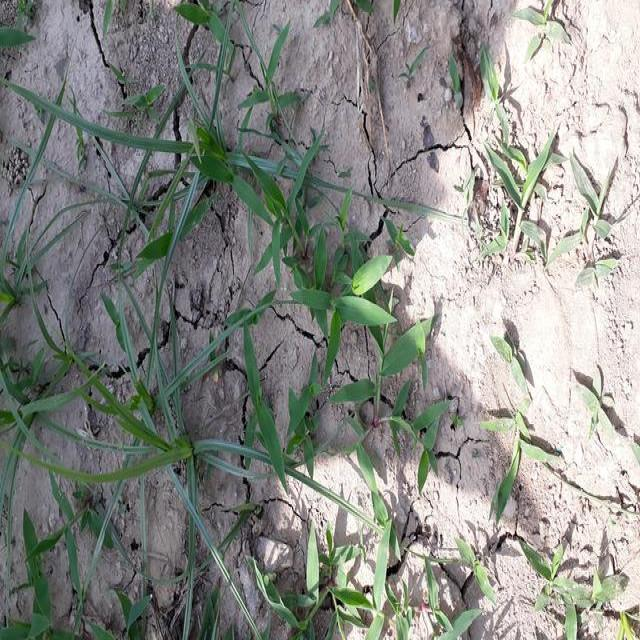weed: (0, 40, 447, 640), (289, 273, 402, 640), (468, 54, 619, 287), (510, 553, 628, 640), (487, 399, 540, 510)
